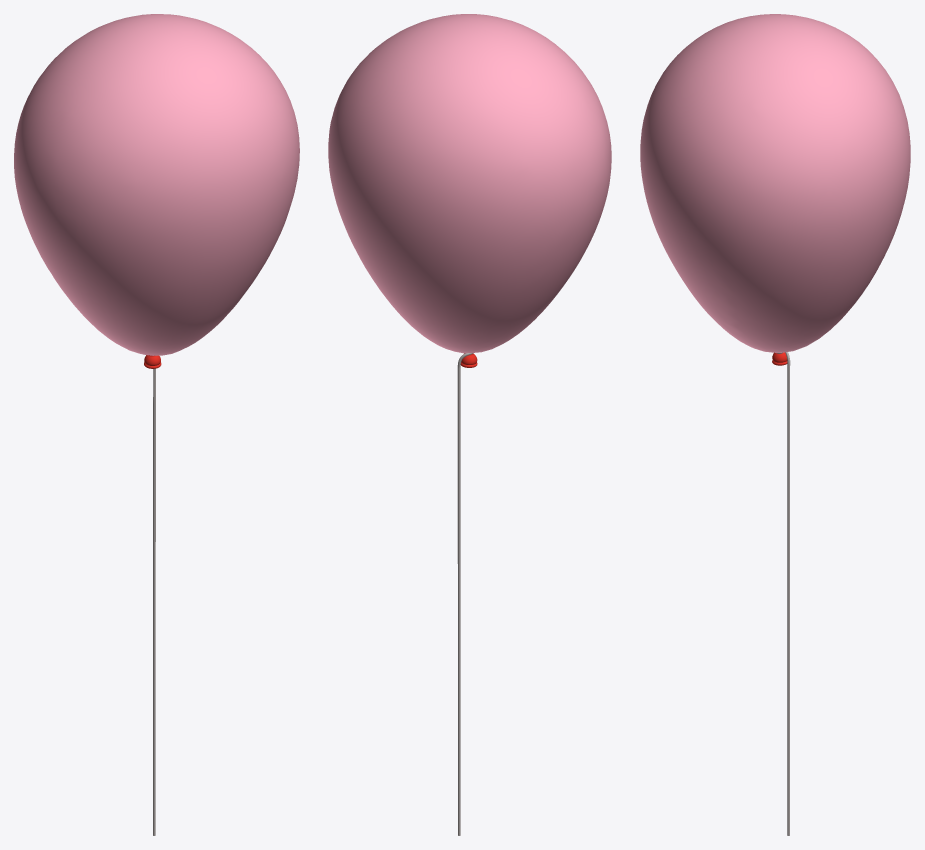
File: Pink Balloon.fbx
The picture shows the model from 3 angles, left to right: view 1: azimuth 30°, elevation 25°; view 2: azimuth 150°, elevation 25°; view 3: azimuth 270°, elevation 25°; orthographic projection.
Visible parts, largest first — view 1: node_id44; view 2: node_id44; view 3: node_id44.
Boxes of the visible parts, bbox=[...] form: node_id44: bbox=[14, 14, 299, 835]; node_id44: bbox=[328, 14, 611, 835]; node_id44: bbox=[640, 14, 910, 835].
Bounding box in the file's own units: 0.1664 × 0.512 × 0.1557.
Materials: 1 (1 with a texture image).
